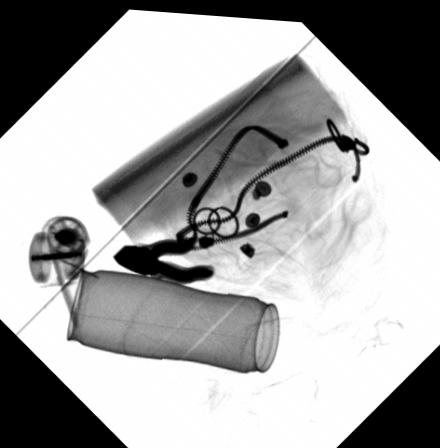Pliers: (111, 230, 217, 282)
